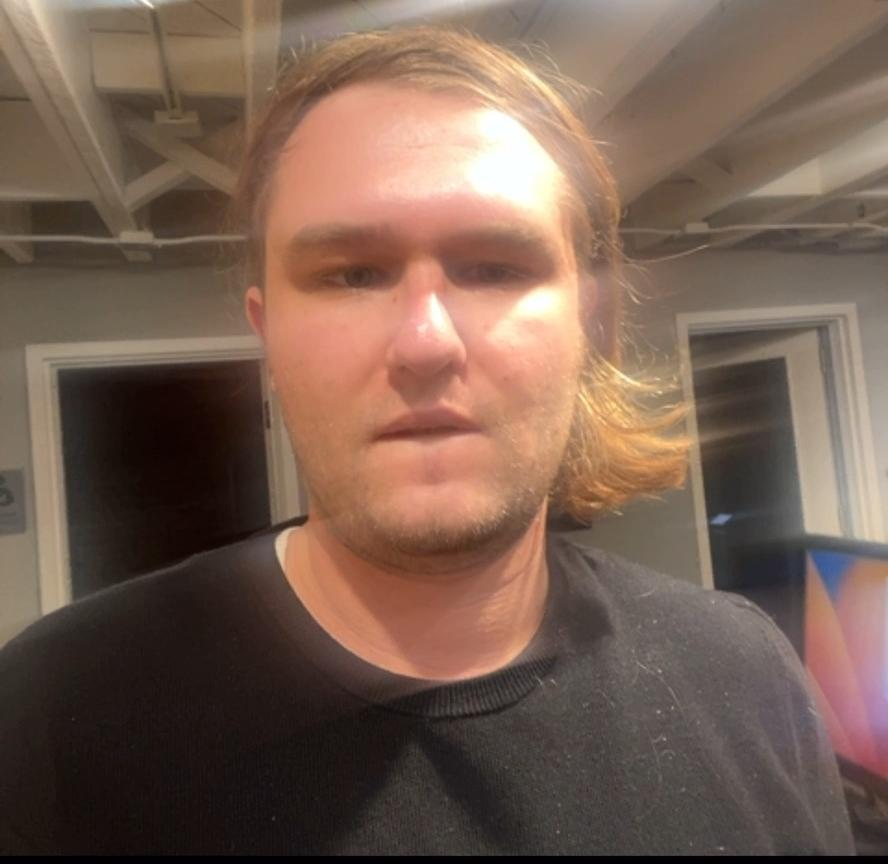NO-Hardhat: (241, 2, 677, 652)
